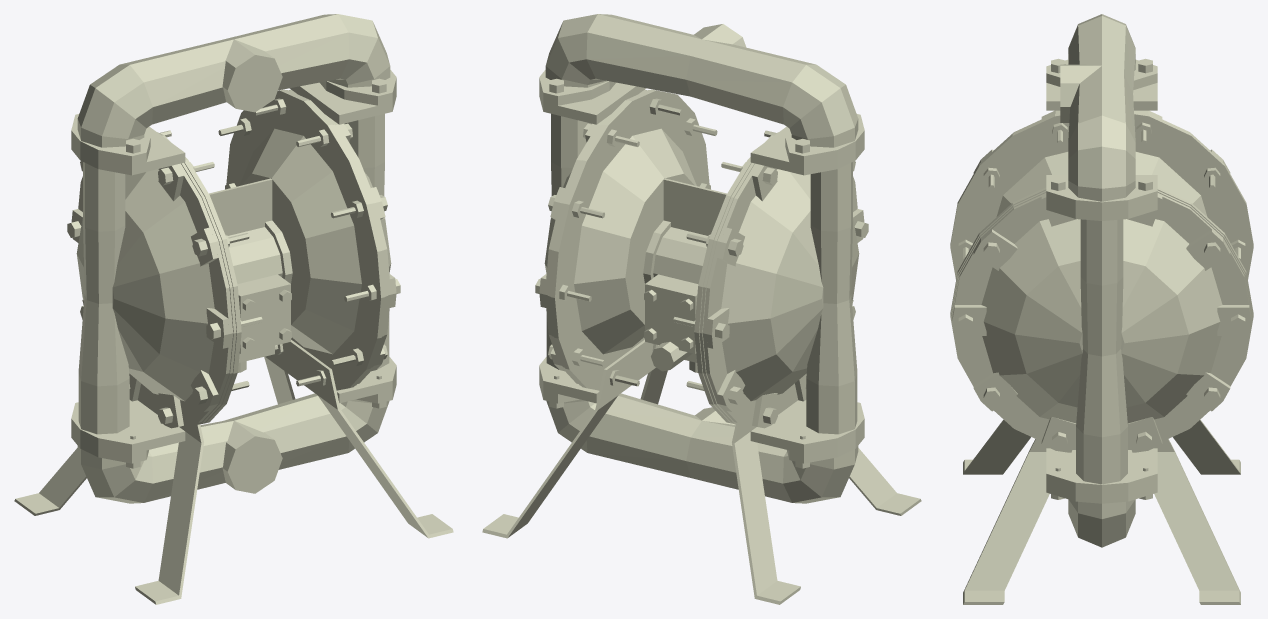
Rendered from Pneumatic Diaphragm Pump.fbx.
The picture shows the model from 3 angles, left to right: view 1: azimuth 30°, elevation 25°; view 2: azimuth 150°, elevation 25°; view 3: azimuth 270°, elevation 25°; orthographic projection.
Parts seen in each view (by area): view 1: Pneumatic Diaphragm Pump-Sump PDPS108; view 2: Pneumatic Diaphragm Pump-Sump PDPS108; view 3: Pneumatic Diaphragm Pump-Sump PDPS108.
Part boxes in pixels (<box>): Pneumatic Diaphragm Pump-Sump PDPS108: <box>14,14,453,604</box>; Pneumatic Diaphragm Pump-Sump PDPS108: <box>482,14,921,604</box>; Pneumatic Diaphragm Pump-Sump PDPS108: <box>950,14,1253,604</box>.
Bounding box in the file's own units: 1.1 × 0.958 × 1.63.
